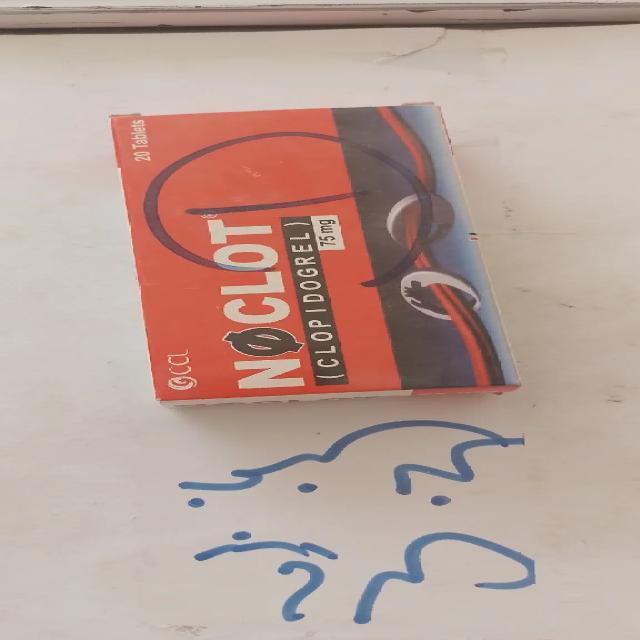drug-name: (204, 214, 311, 392)
